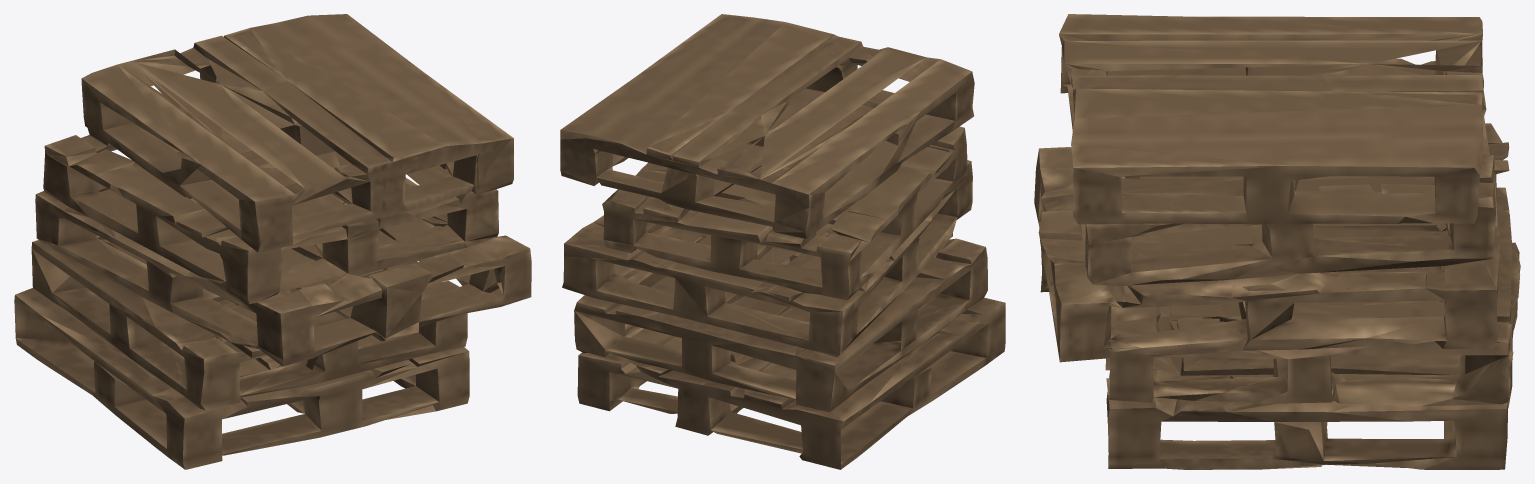
Rendered from pallet-stack.glb.
The picture shows the model from 3 angles, left to right: view 1: azimuth 30°, elevation 25°; view 2: azimuth 150°, elevation 25°; view 3: azimuth 270°, elevation 25°; orthographic projection. The views are drawn at different scales.
Bounding box in the file's own units: 1.75 × 1.43 × 1.9.
1 material, 1 textured.
